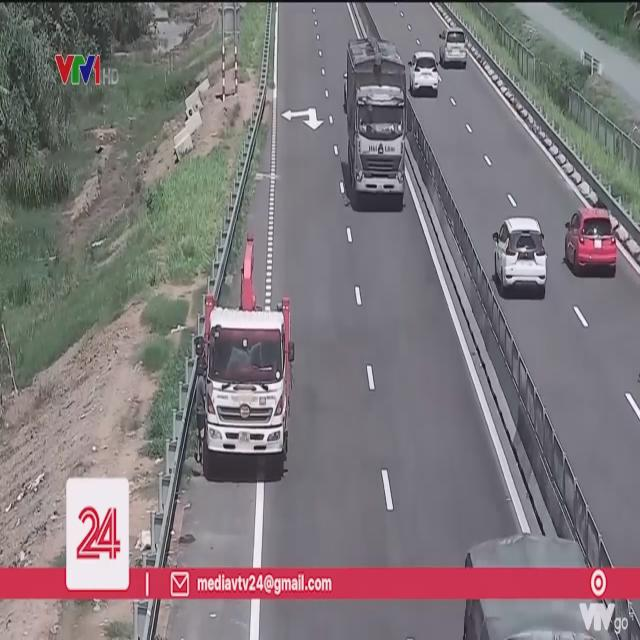car: (493, 216, 549, 298), (565, 204, 619, 279), (408, 54, 441, 94), (440, 28, 468, 68)
truck: (203, 295, 291, 477), (341, 33, 408, 210)
